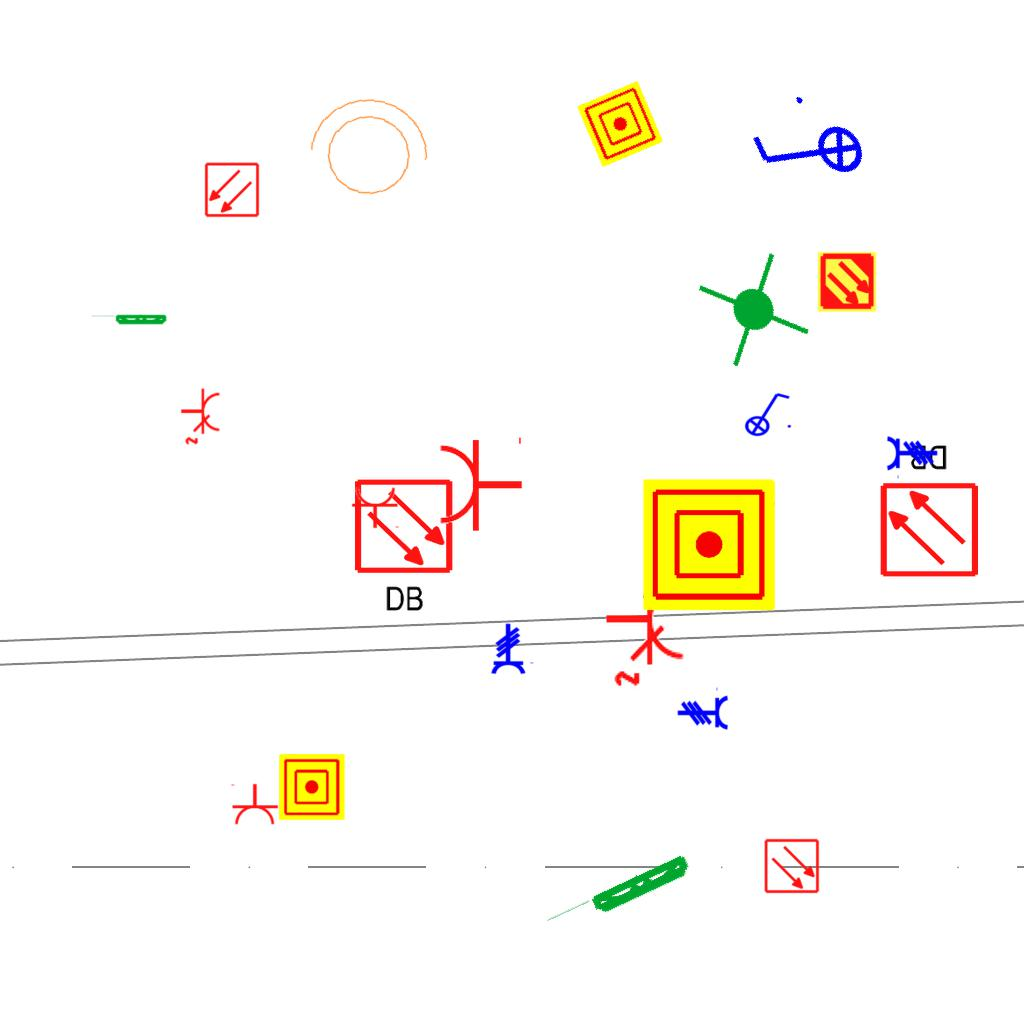ASR_Ansaugrauchmelder: (816, 251, 878, 313)
Ausschalter_beleuchtet: (736, 79, 882, 227), (738, 389, 794, 437)
CEE_Drehstrom_Steckdose_16_32_A: (677, 686, 729, 731), (490, 623, 535, 675), (886, 435, 938, 480)
DB_Melder_in_Doppelboden_mit_Revisionsoeffnung_mind_40_x_40_cm: (348, 472, 462, 621), (871, 435, 985, 584)
NAM-Nichtautomatischer_Melder: (643, 479, 775, 611), (576, 80, 664, 168), (279, 754, 345, 820)
Notlichtbaustein_in_Allgemeinbeleuchtug_engebaut_Einbau_(1UG_und_2UG_Aufbauvaria: (685, 243, 820, 377)
RMO_Rauchmelder_optischer: (204, 162, 260, 218), (764, 838, 820, 894)
Scheinwerfer_fuer_Alarmbeleuchtung: (295, 88, 437, 212)
Schukosteckdose_einfach: (437, 433, 524, 533), (229, 783, 279, 826), (351, 486, 401, 529)
Schukosteckdose_mehrfach: (600, 568, 688, 689), (178, 386, 222, 446)
Sicherheitsleuchte_Wandeinbau: (541, 851, 696, 942), (89, 314, 168, 326)
